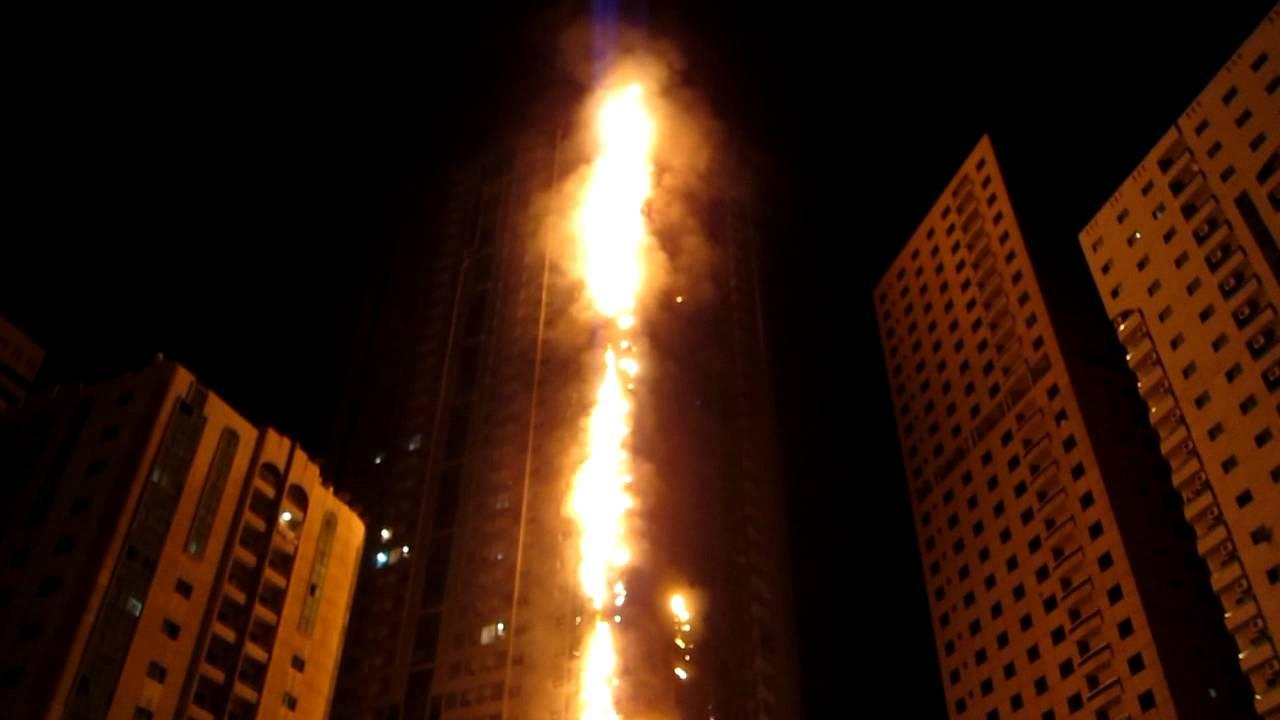Fire: (572, 31, 699, 720)
